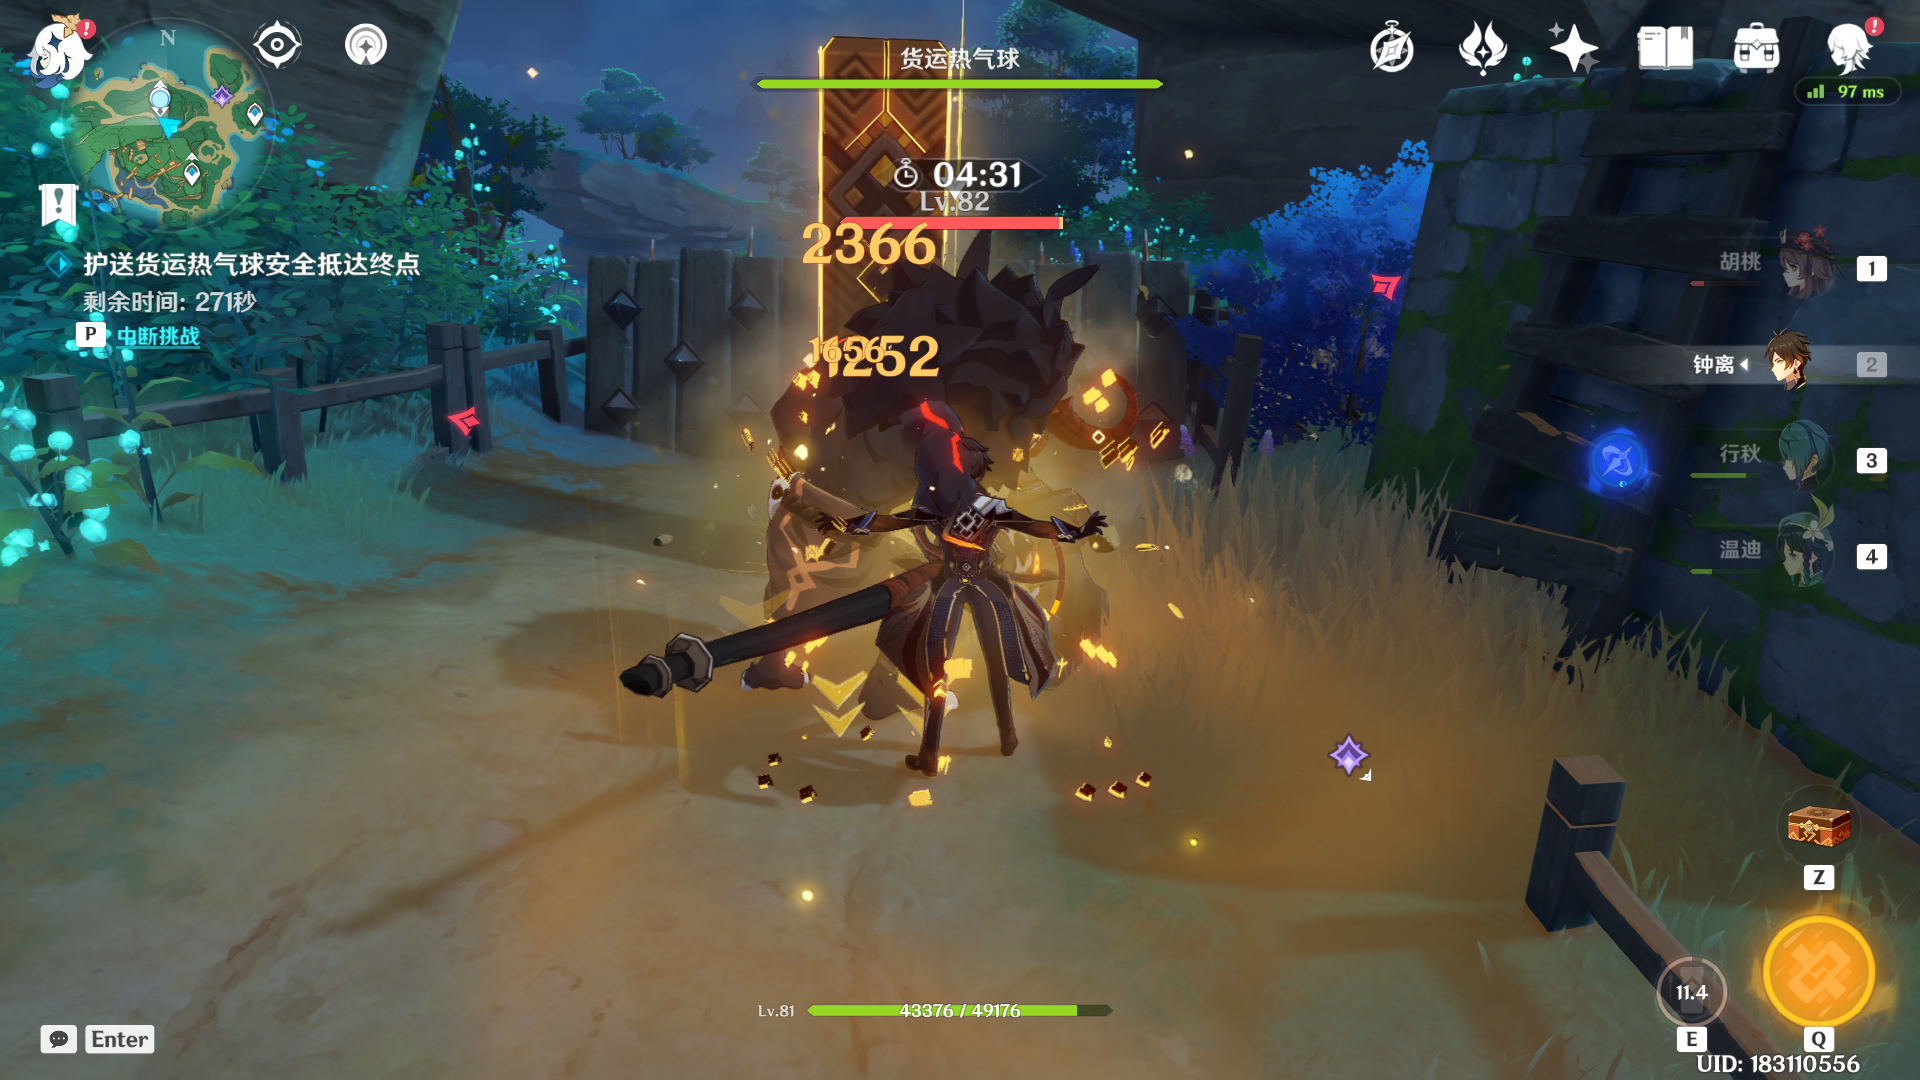bighili: (684, 216, 1141, 748)
character: (848, 402, 1100, 802)
